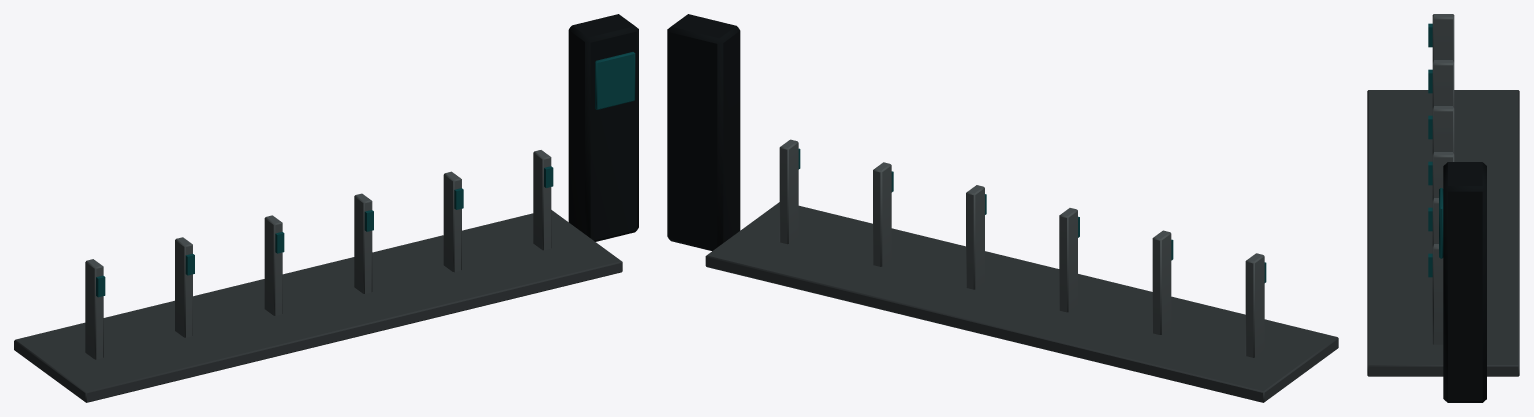
Rendered from hz-bike-dock.glb.
3 views of the same model, side by side, from view 1: azimuth 30°, elevation 25°; view 2: azimuth 150°, elevation 25°; view 3: azimuth 270°, elevation 25° (orthographic). The views are drawn at different scales.
Visible parts, largest first — view 1: rail__steel, kiosk__plastic, accent__lacquer; view 2: rail__steel, kiosk__plastic; view 3: rail__steel, kiosk__plastic, accent__lacquer.
Part boxes in pixels (x1,y1,x2,y2): rail__steel: (14, 150, 622, 402); kiosk__plastic: (568, 14, 638, 241); accent__lacquer: (96, 52, 635, 297); rail__steel: (705, 139, 1338, 402); kiosk__plastic: (667, 14, 740, 250); rail__steel: (1367, 14, 1519, 376); kiosk__plastic: (1443, 162, 1486, 402); accent__lacquer: (1428, 23, 1443, 277).
Bounding box in the file's own units: 3.3 × 1.1 × 0.7.
